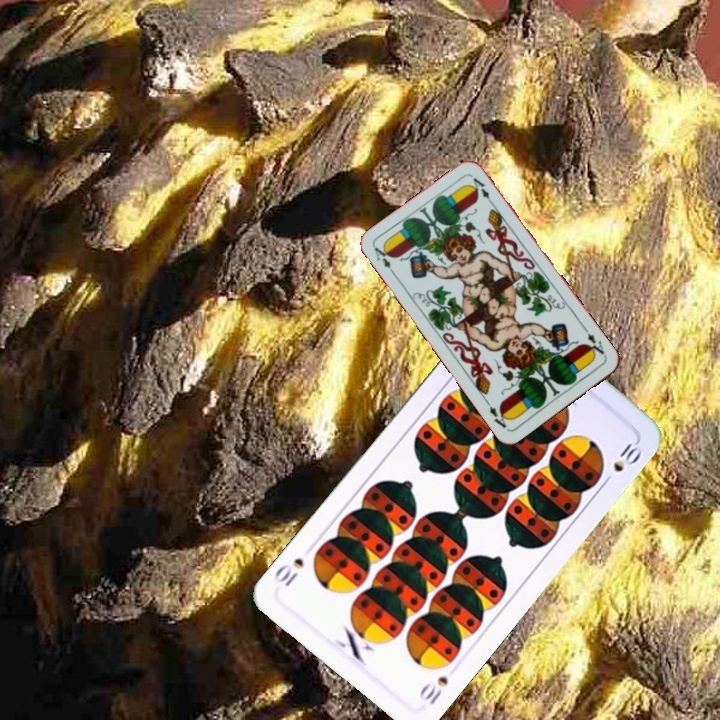EA: (370, 242, 398, 278), (582, 329, 609, 359)
S10: (415, 672, 451, 708)
